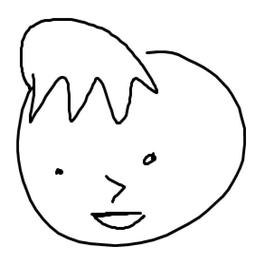open_mouth: (84, 209, 149, 234)
pointy_nose: (99, 173, 130, 207)
small_eye: (141, 152, 159, 169), (51, 163, 66, 179)
